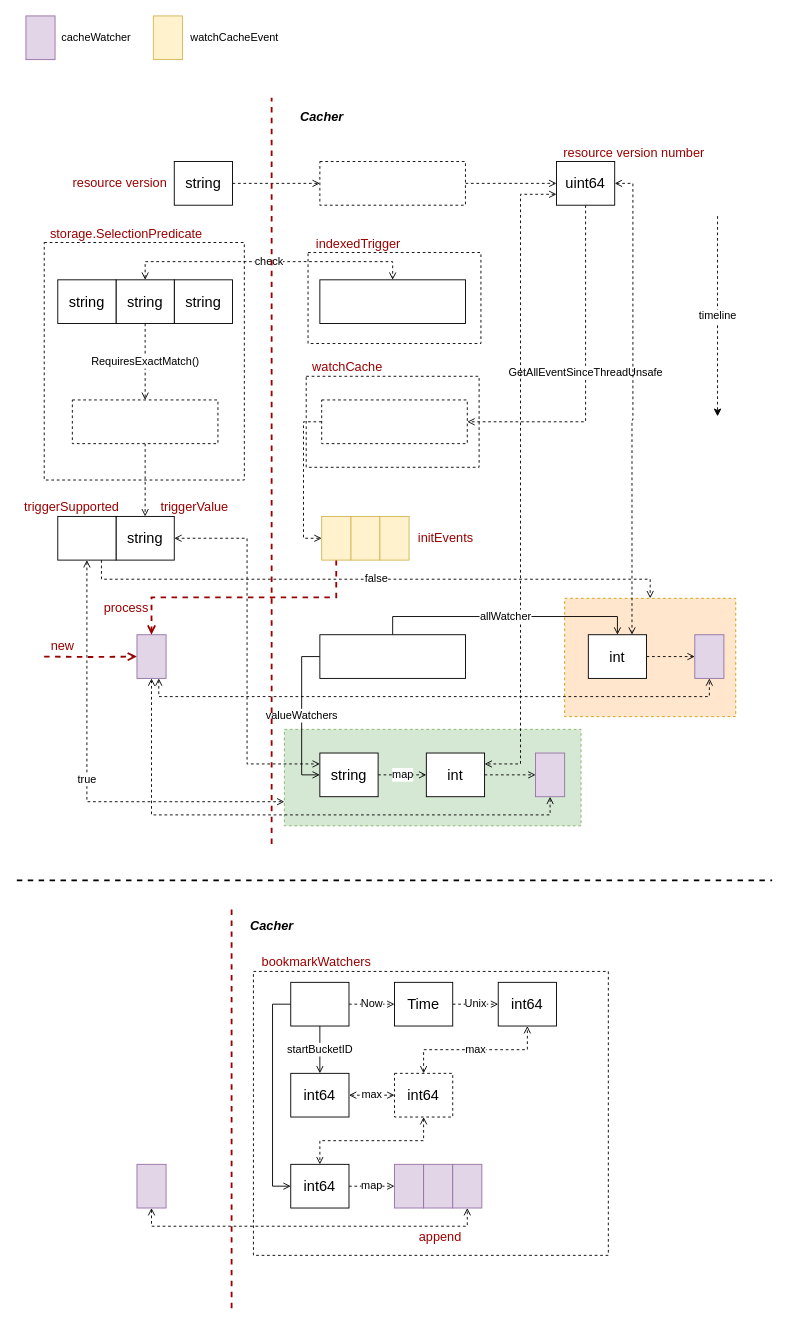
This 789x1326 diagram has some shape labels left out. The shapes that lost their labels are listed below. From the top down, each one's centre as x and y in pixels, then its label:
At point (392, 183): "Versioner".
At point (392, 301): "indexName".
At point (144, 421): "Selector".
At point (394, 421): "Indexer".
At point (86, 538): "bool".
At point (392, 656): "indexedWatchers".
At point (319, 1003): "Clock".
